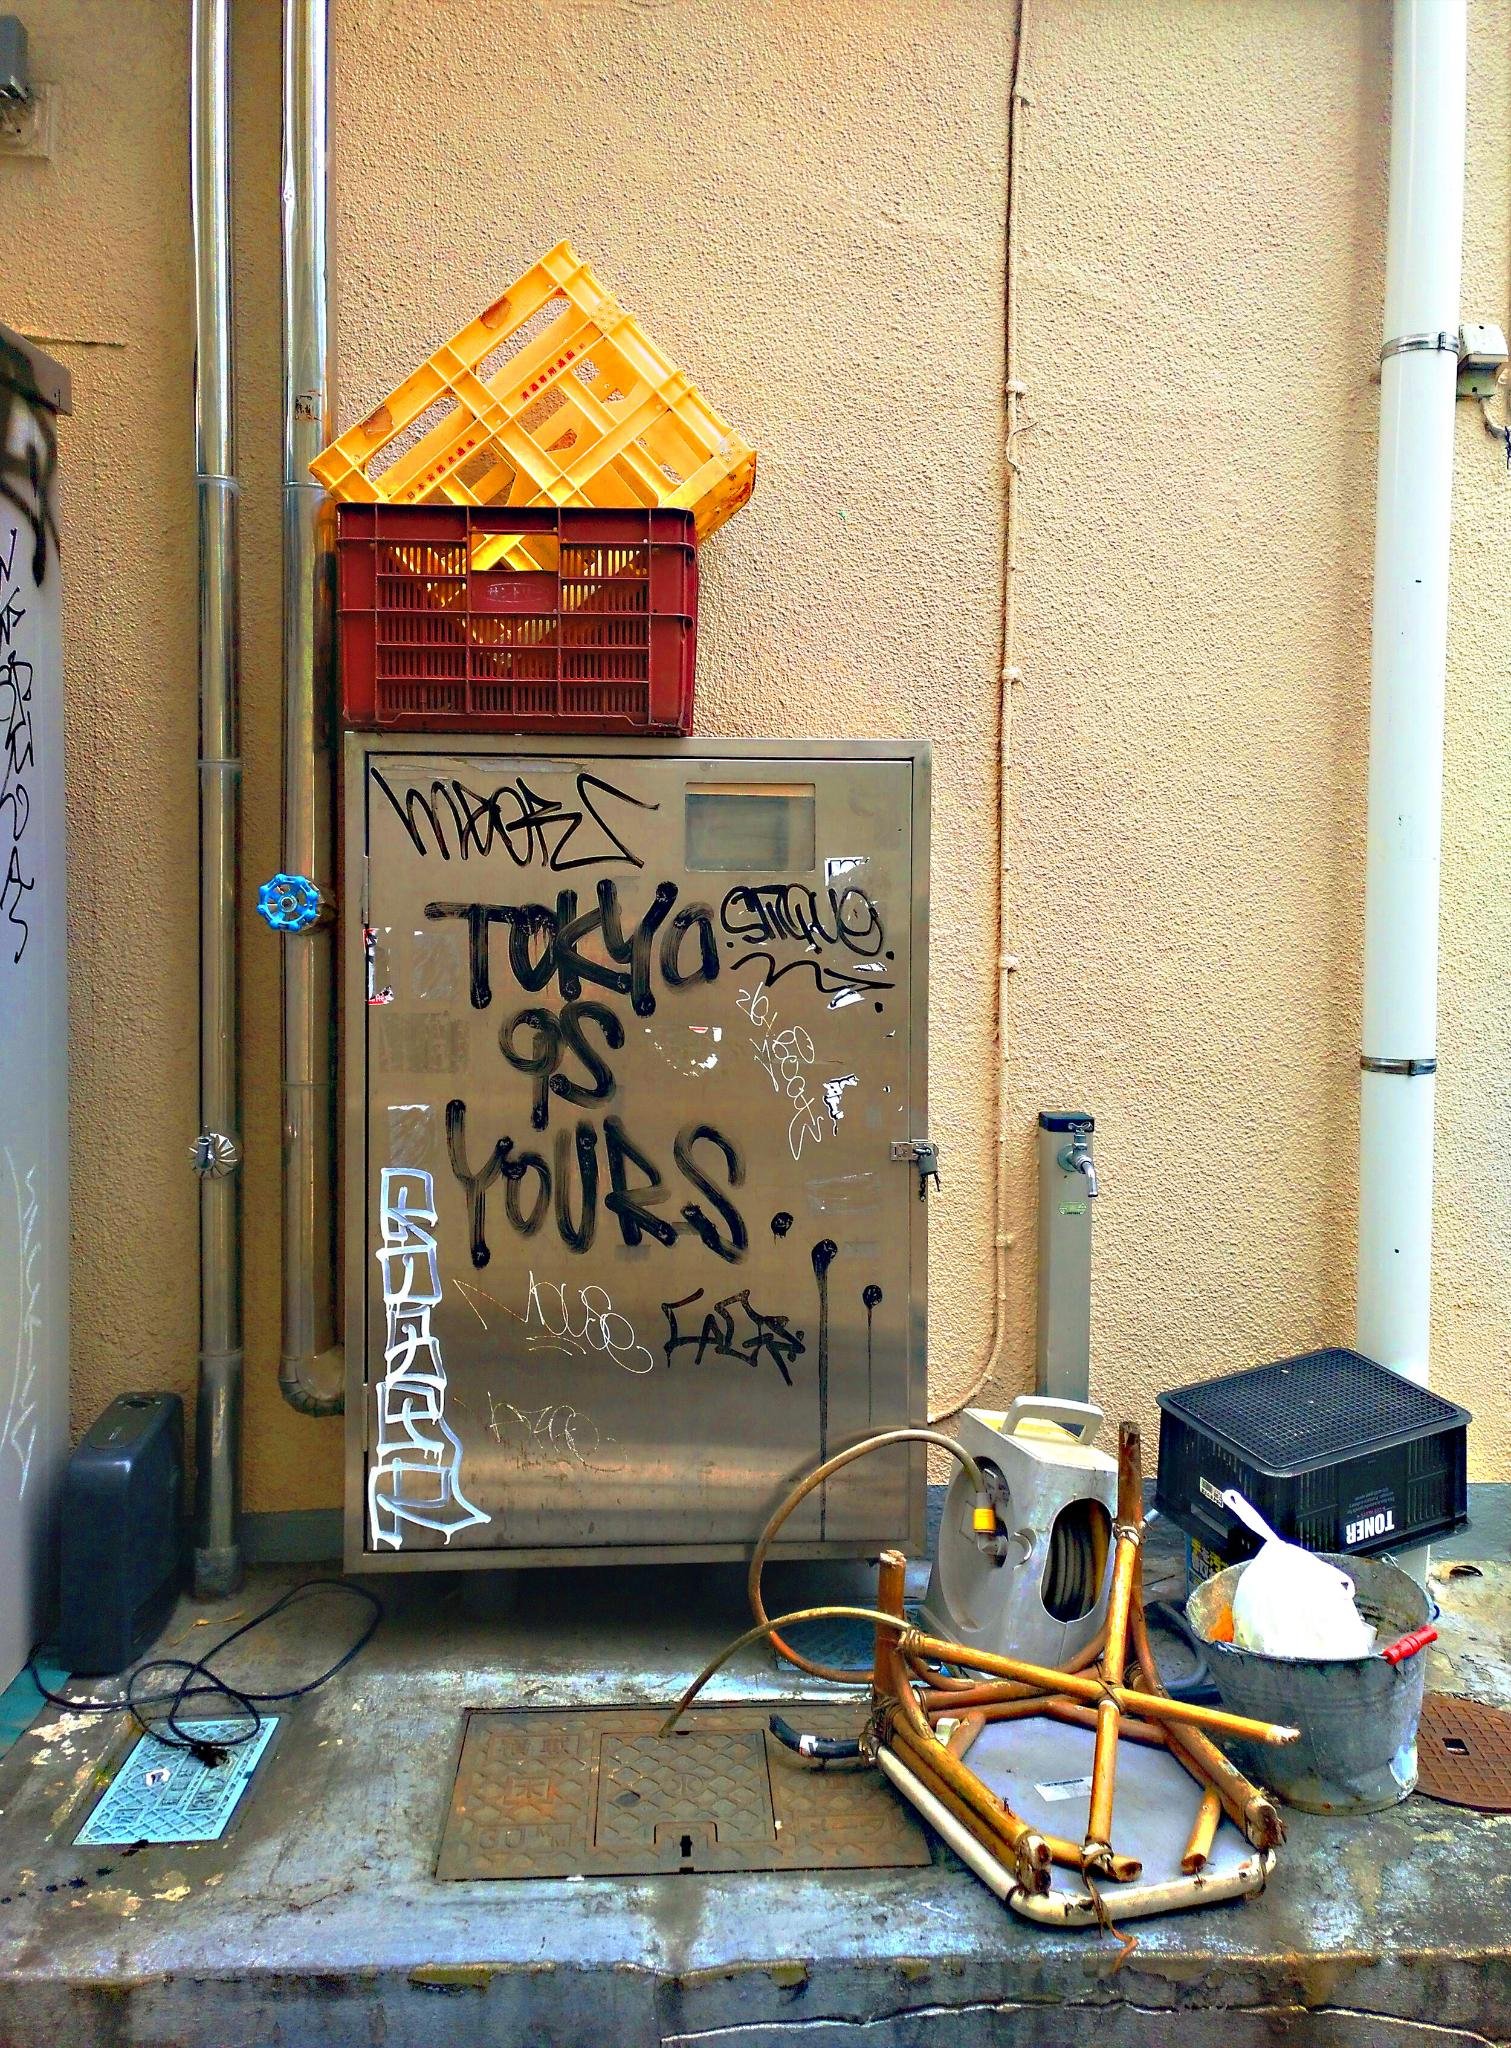graffiti: (369, 747, 915, 1552), (0, 545, 49, 972), (16, 1150, 51, 1544)
